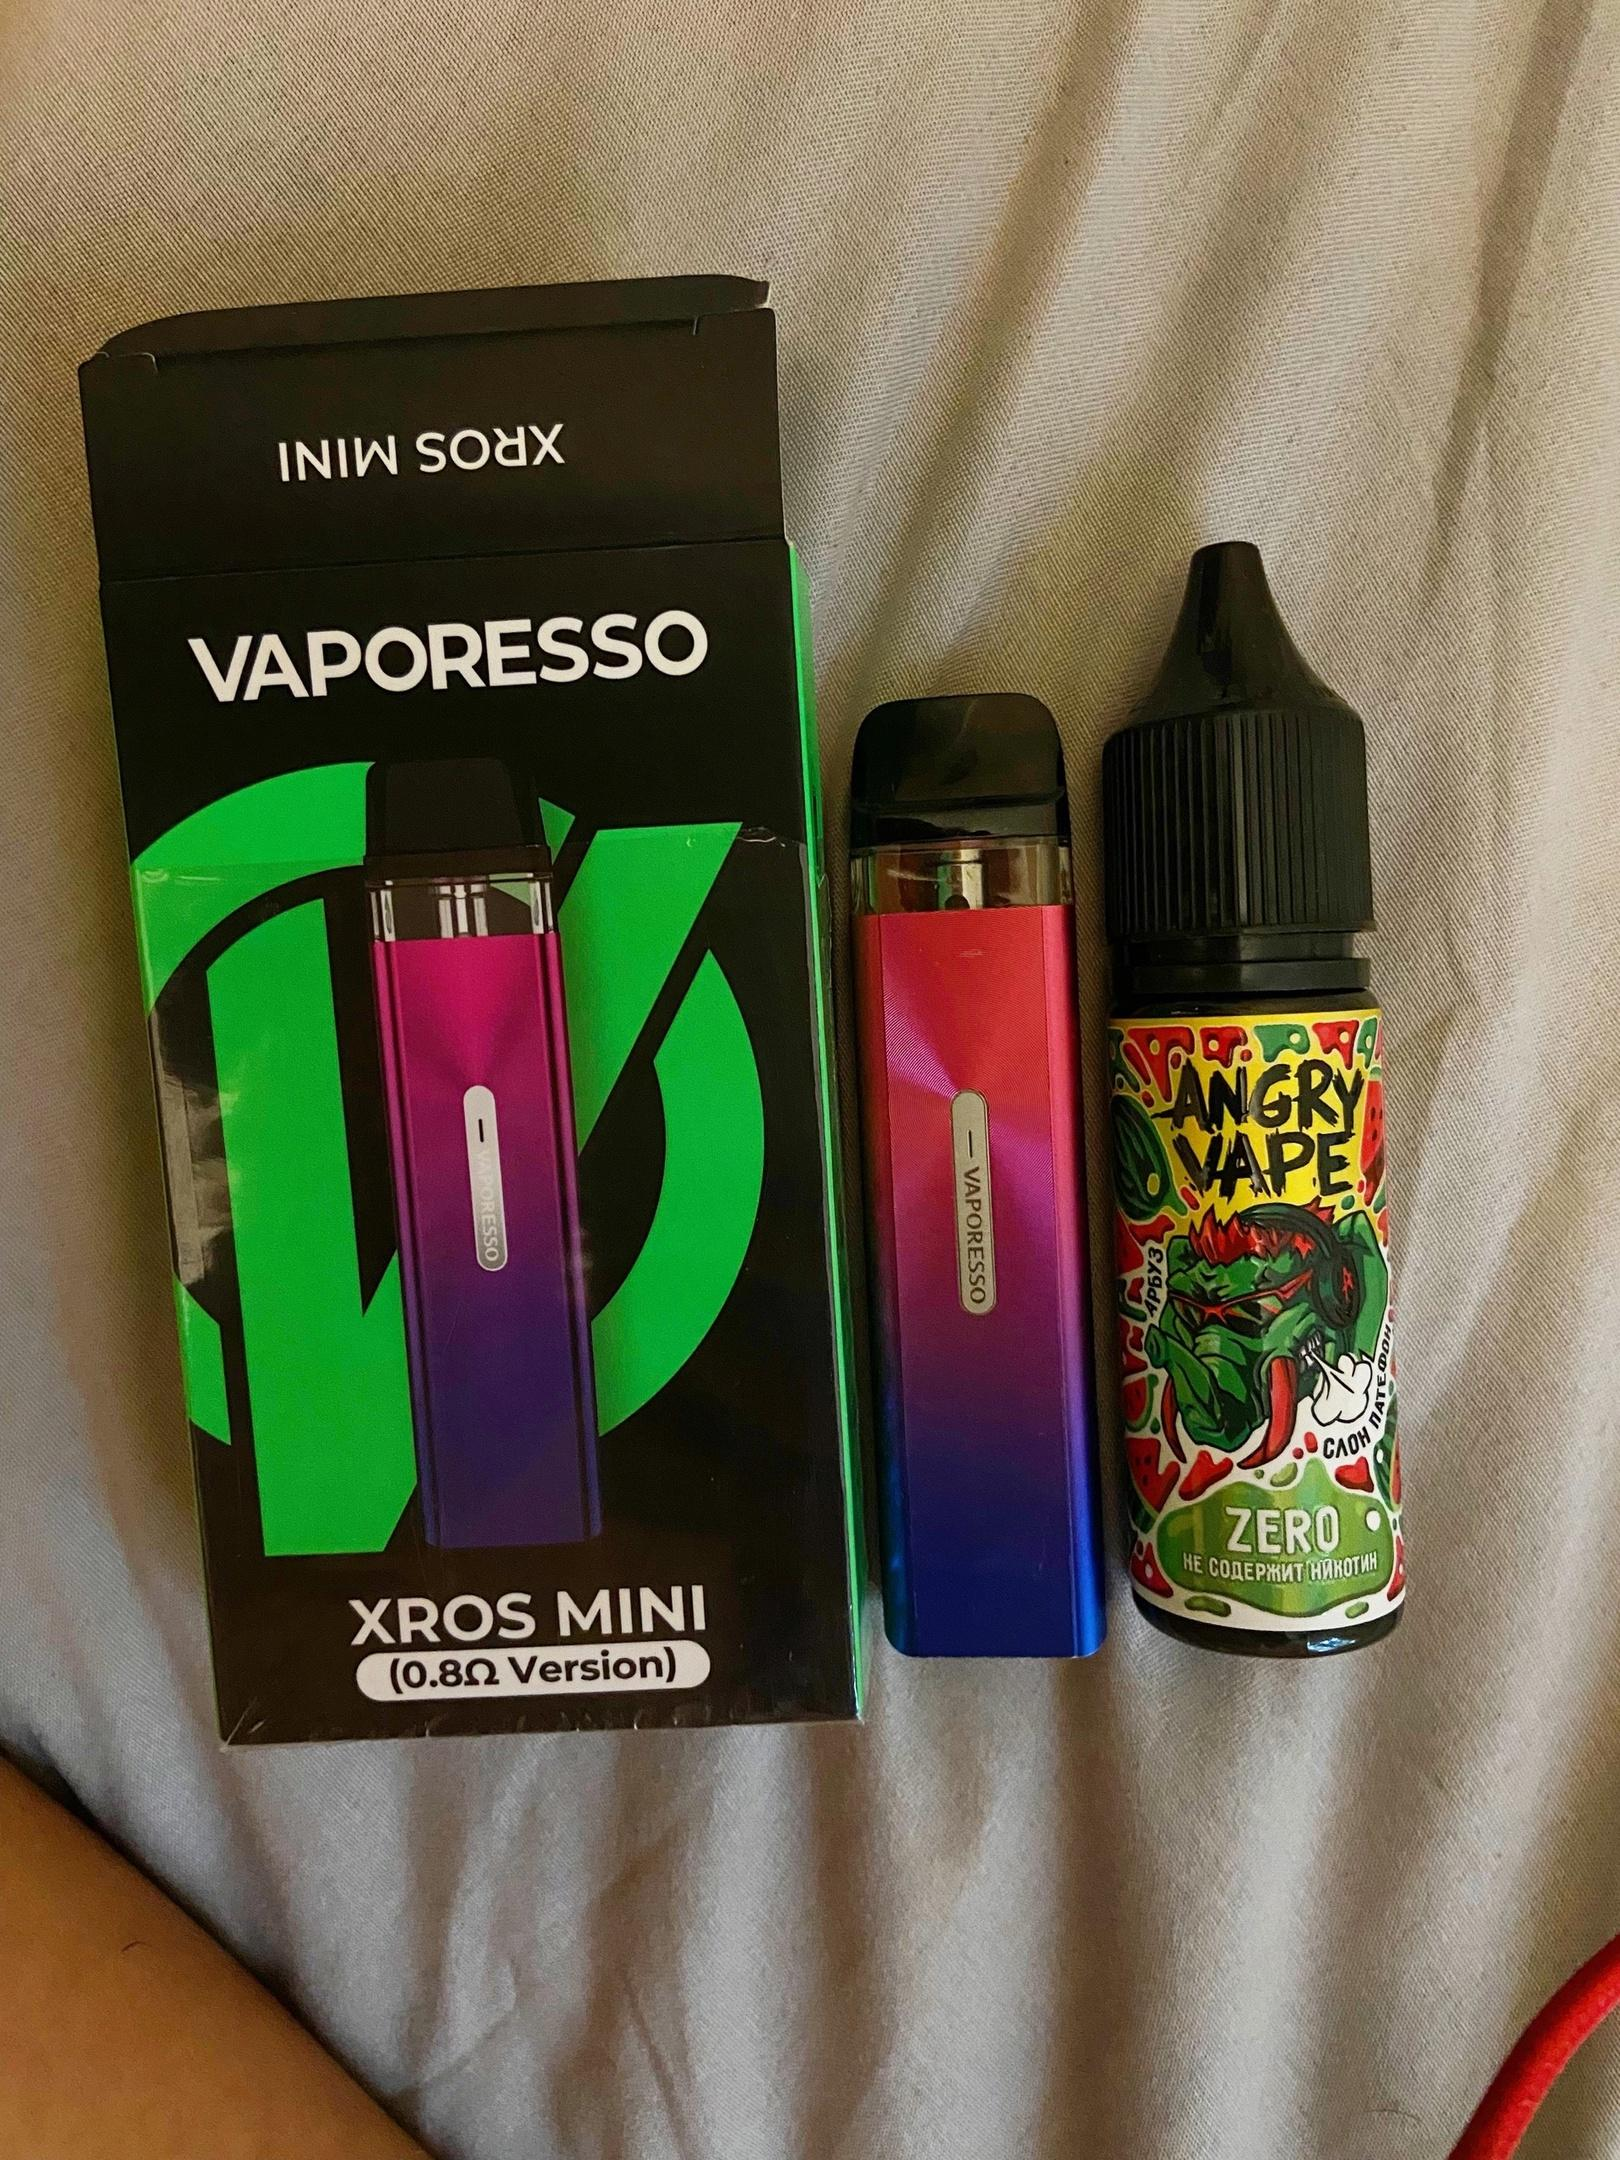Vape: (851, 694, 1104, 1657)
